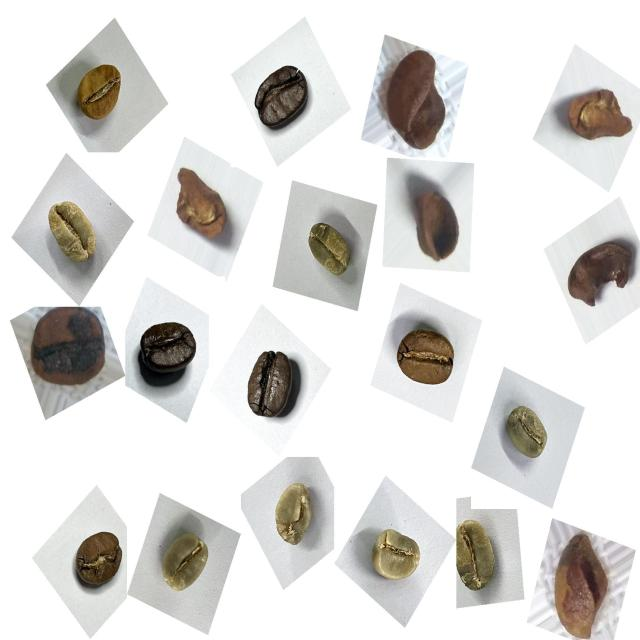bad: (374, 40, 459, 164), (21, 300, 114, 402), (542, 524, 620, 638), (559, 231, 640, 322), (402, 179, 469, 274), (559, 79, 640, 157), (171, 160, 240, 250)
dark: (247, 54, 320, 142), (132, 309, 206, 395), (238, 338, 308, 427)
green: (37, 192, 109, 279), (446, 511, 512, 605), (152, 520, 220, 608), (263, 474, 325, 560), (362, 521, 430, 597), (297, 211, 362, 289), (495, 395, 560, 473)
light: (69, 54, 135, 134)
medium: (387, 316, 464, 398), (65, 520, 131, 600)
